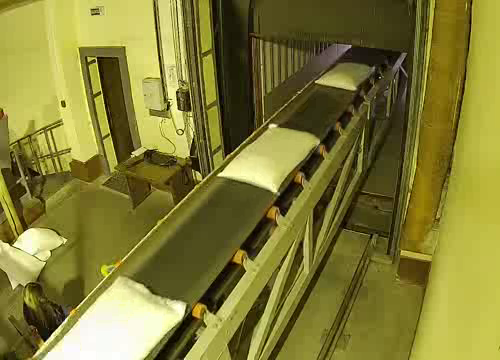bag: (36, 271, 201, 360), (212, 124, 325, 196), (308, 58, 381, 97)
